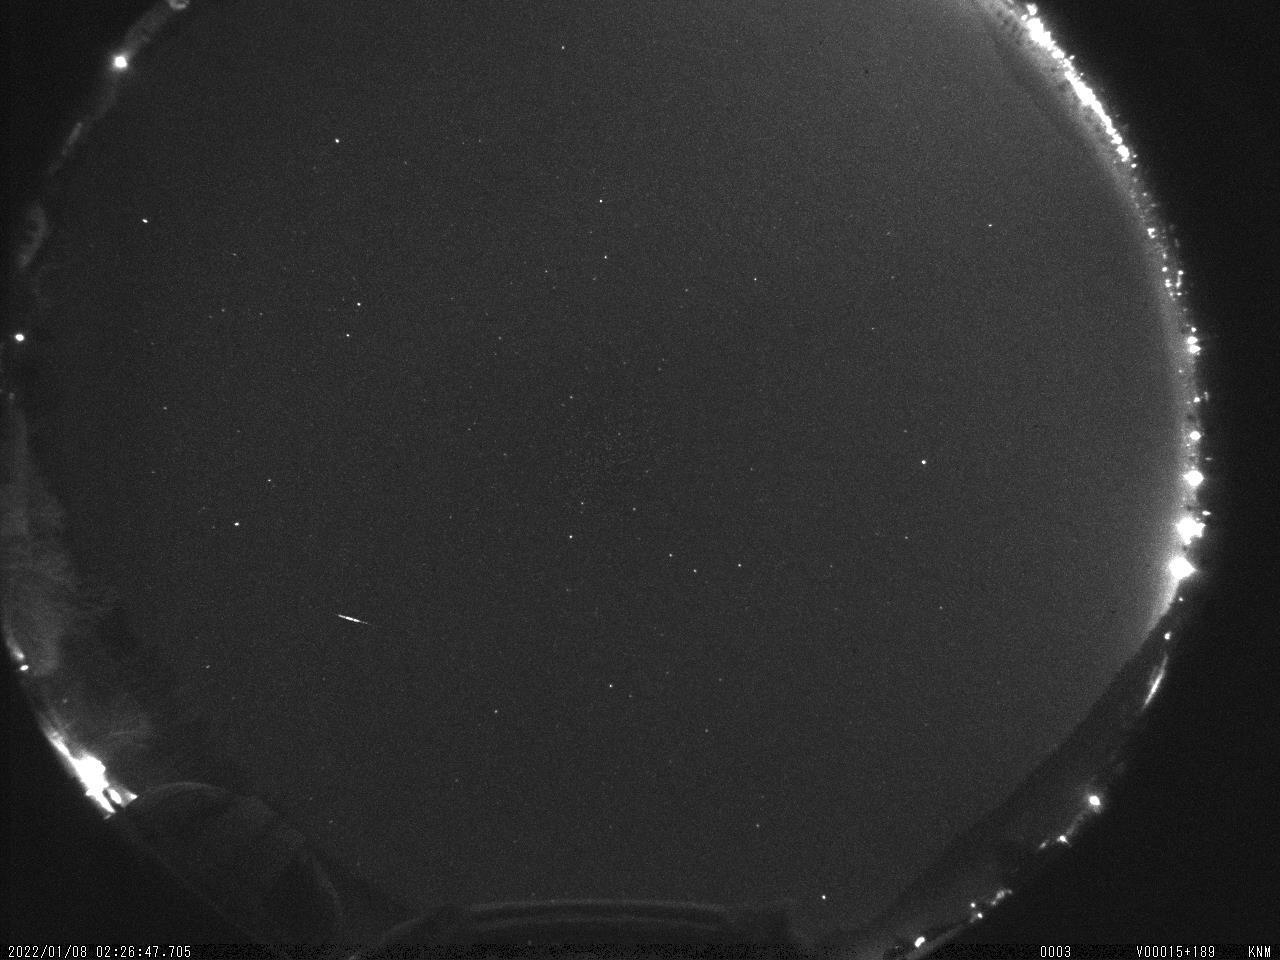Meteor: (334, 609, 372, 626)
